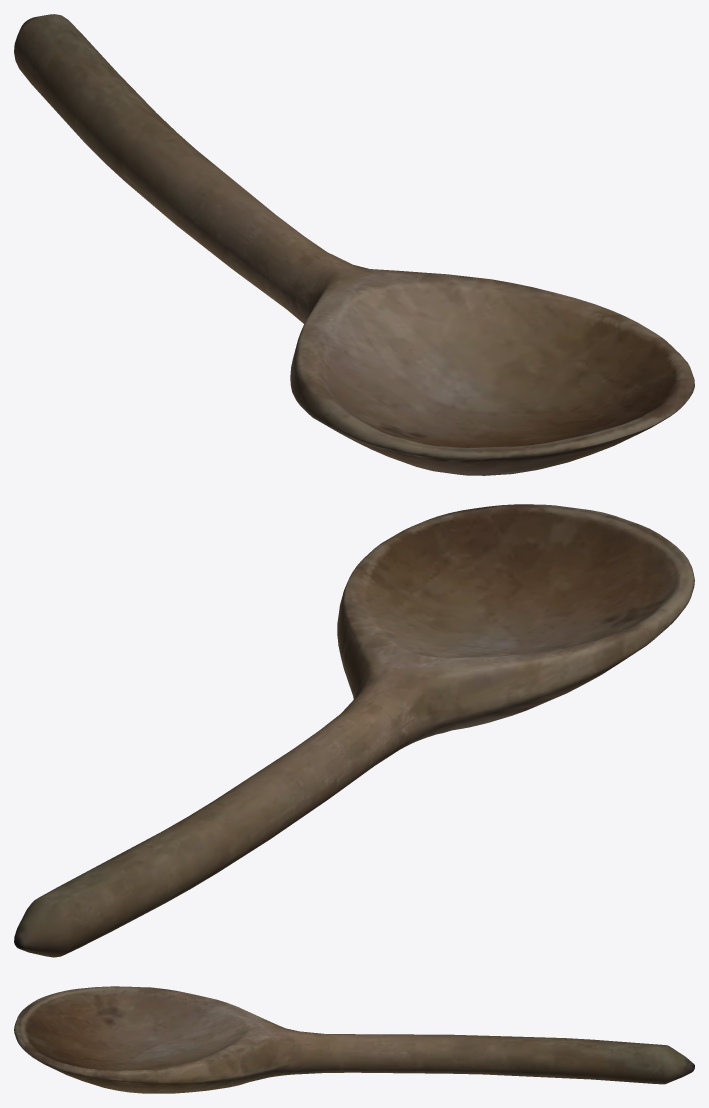
The model's file is wooden_spoon.glb.
3 views of the same model, one above another, from view 1: azimuth 30°, elevation 25°; view 2: azimuth 150°, elevation 25°; view 3: azimuth 270°, elevation 25° (orthographic). The views are drawn at different scales.
Parts seen in each view (by area): view 1: wooden_spoon; view 2: wooden_spoon; view 3: wooden_spoon.
Part boxes in pixels (left/top/right/bottom): wooden_spoon: left=14, top=14, right=694, bottom=475; wooden_spoon: left=14, top=504, right=694, bottom=957; wooden_spoon: left=14, top=986, right=694, bottom=1093.
Size of the model in its own units: 0.0866 by 0.0251 by 0.2775.
Materials: 1 (1 with a texture image).
